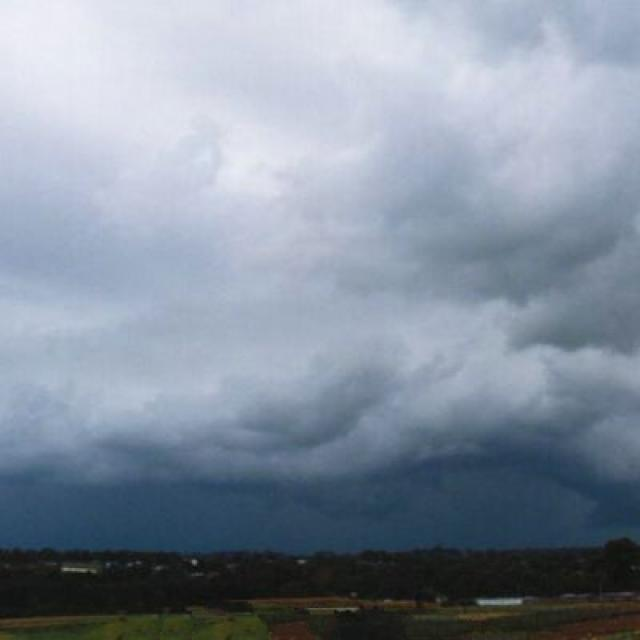Sc: (1, 49, 640, 513)
